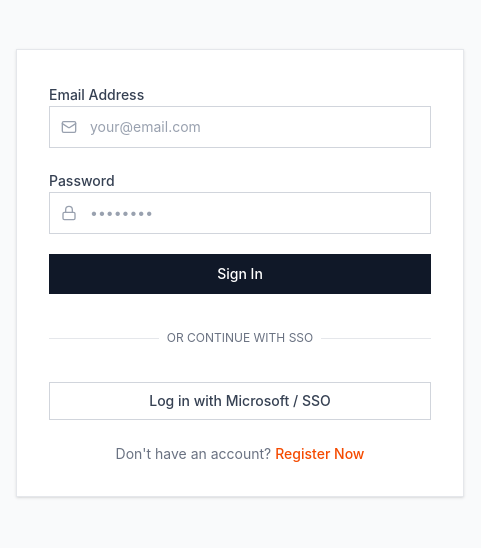
Scenario: LoginPage › shows error message on failed login
Type "test@example.com" into the field with placeholder "your@email.com" at [240, 127], box [49,106,431,148]
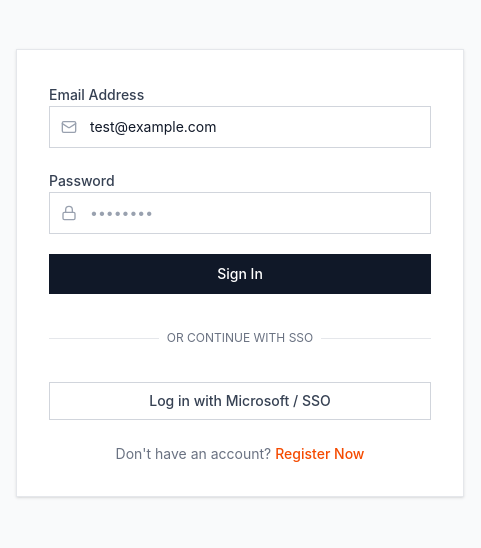
Type "password123" into the password field with placeholder "••••••••" at [240, 213], box [49,192,431,234]
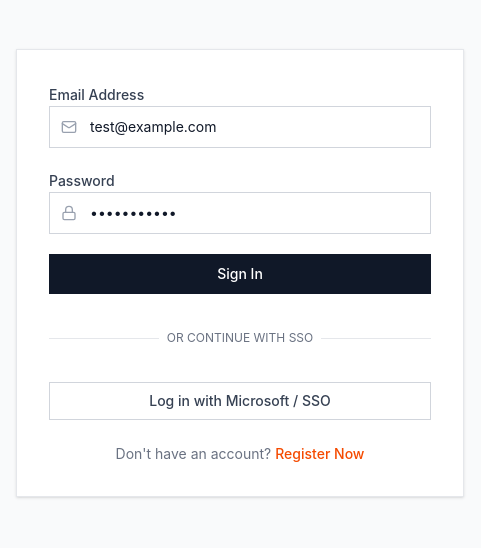
Click the button "Sign In" at [240, 274], box [49,254,431,294]
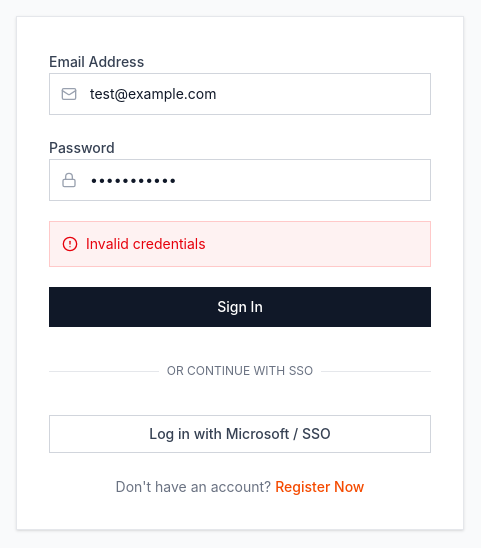
Check: the text "Invalid credentials" is shown, box [86,234,206,254]
